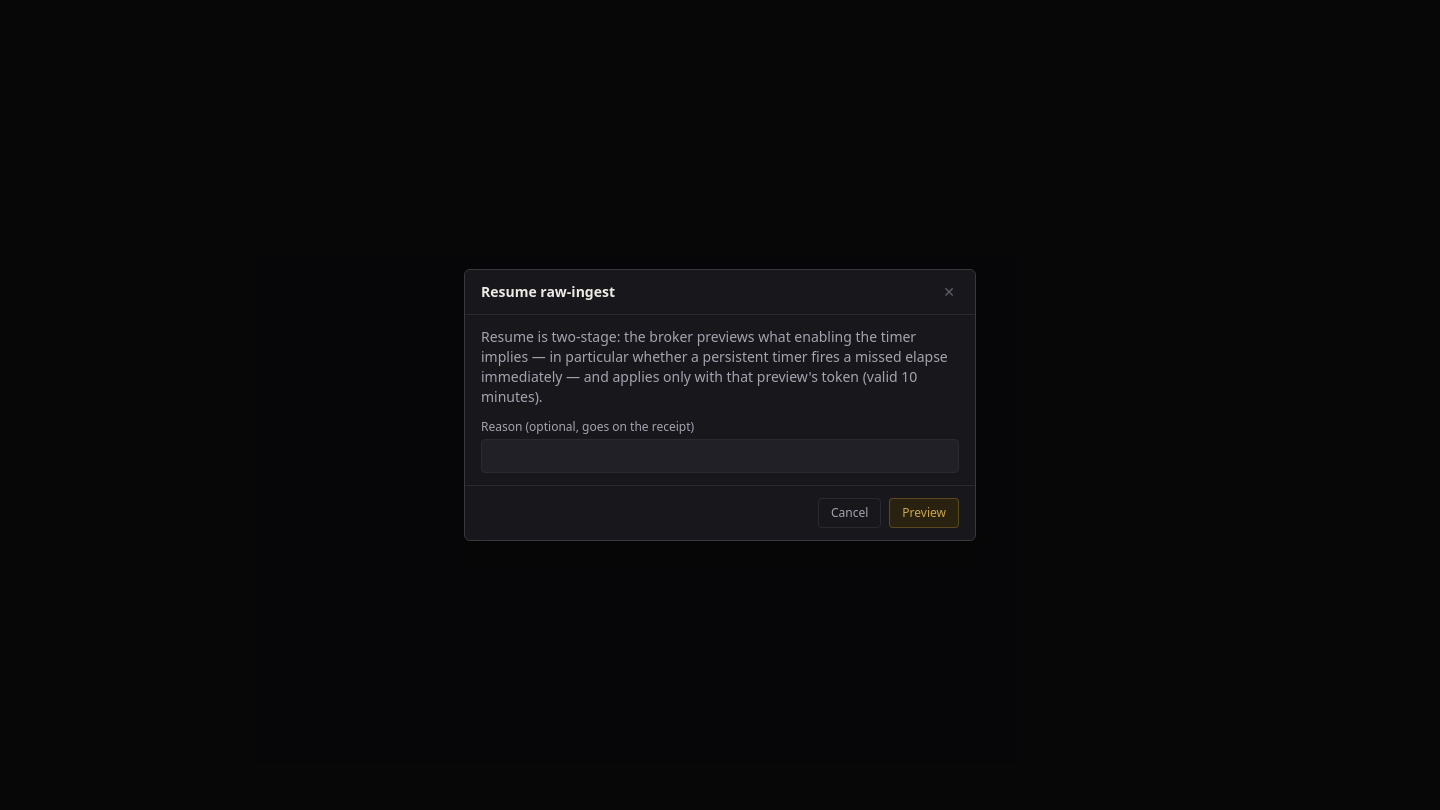
Test: ResumeDialog › a stale preview is shown as a refusal, not applied
Click the button "Preview".
click(924, 513)  # box [889, 498, 959, 528]
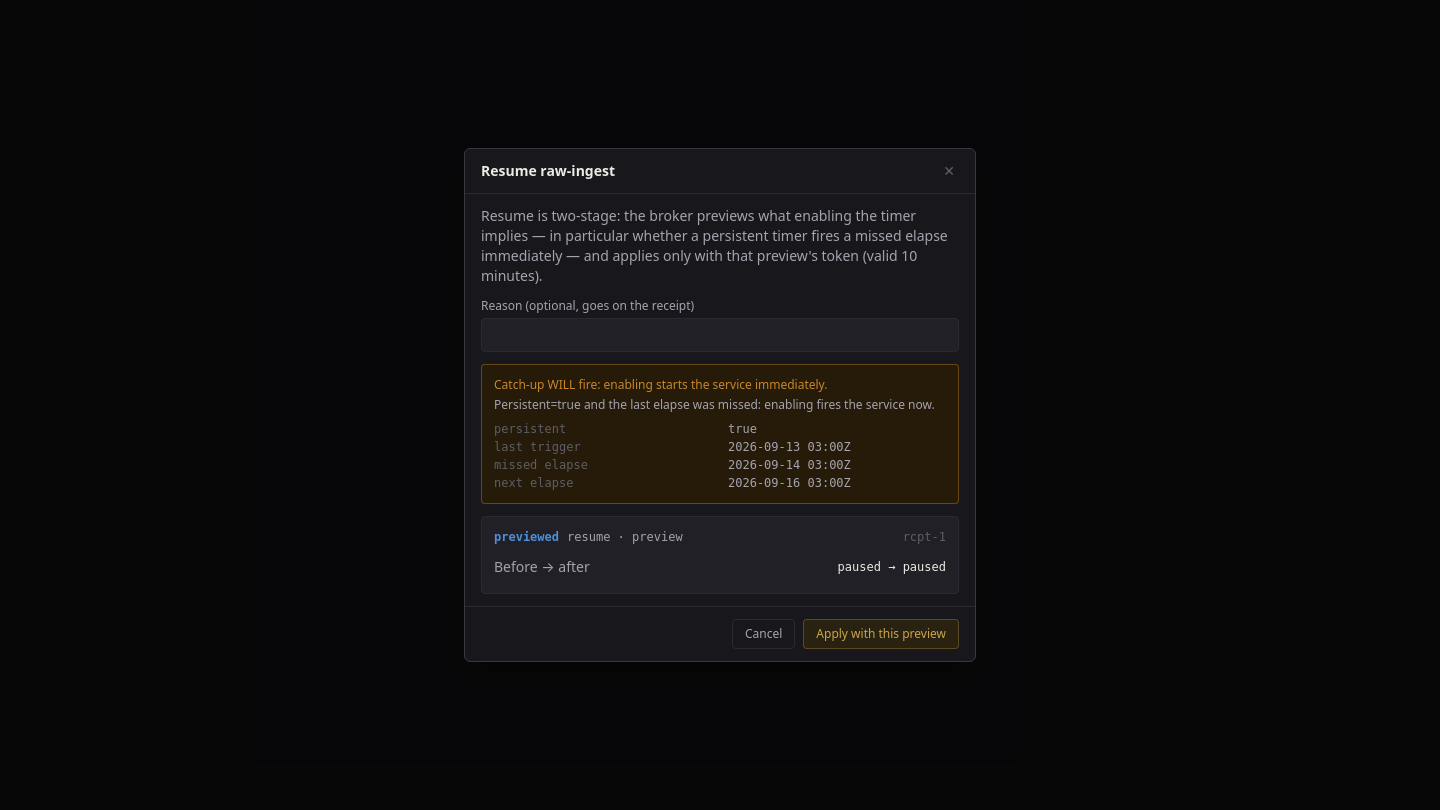
Expected: the element with test id "implication" is shown, [481, 364, 959, 504]
Click the button "Apply with this preview".
click(881, 634)  # box [803, 619, 959, 649]
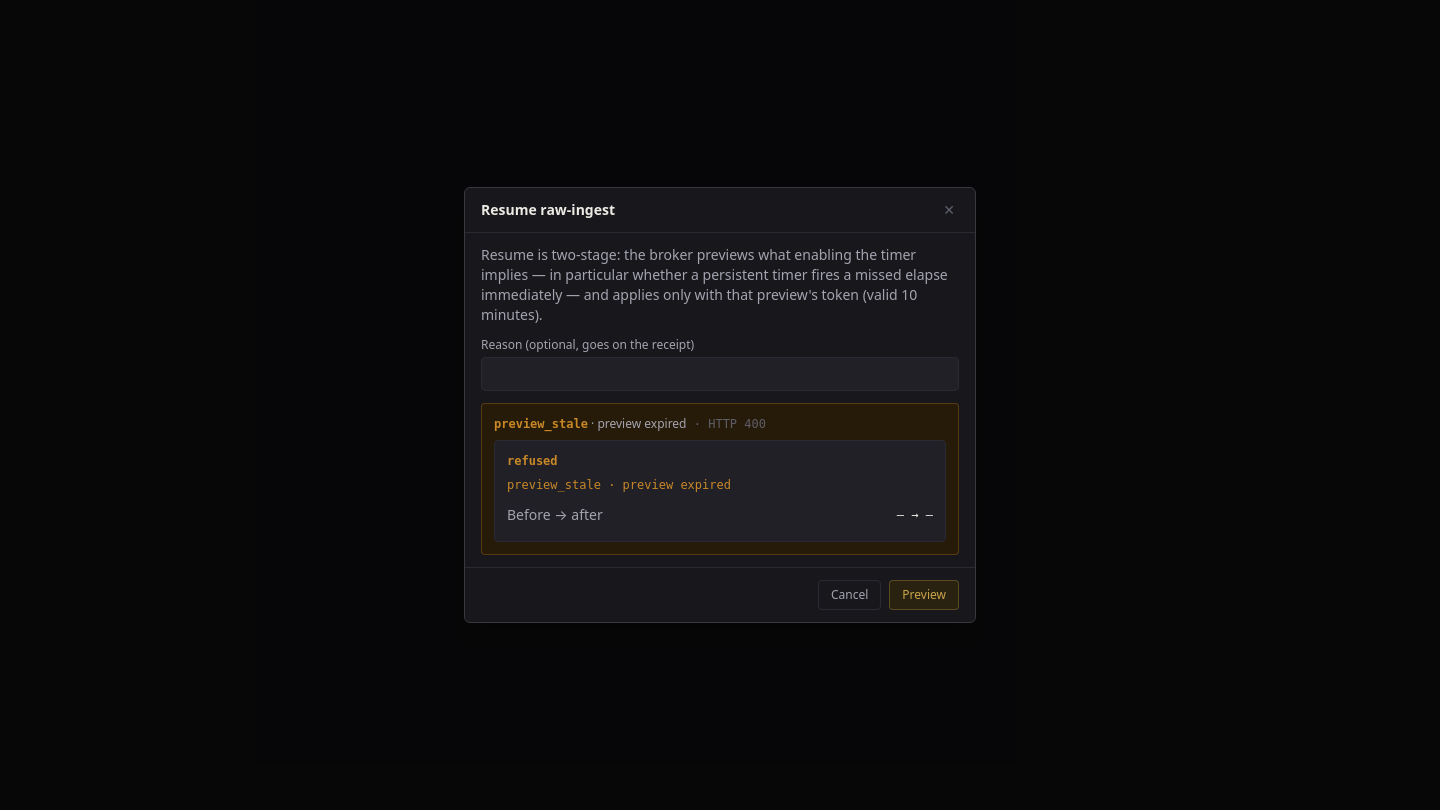
Expected: the message with test id "refusal" shows "preview_stale", [494, 417, 588, 431]
Expected: the message with test id "refusal" shows "HTTP 400", [481, 403, 959, 555]
